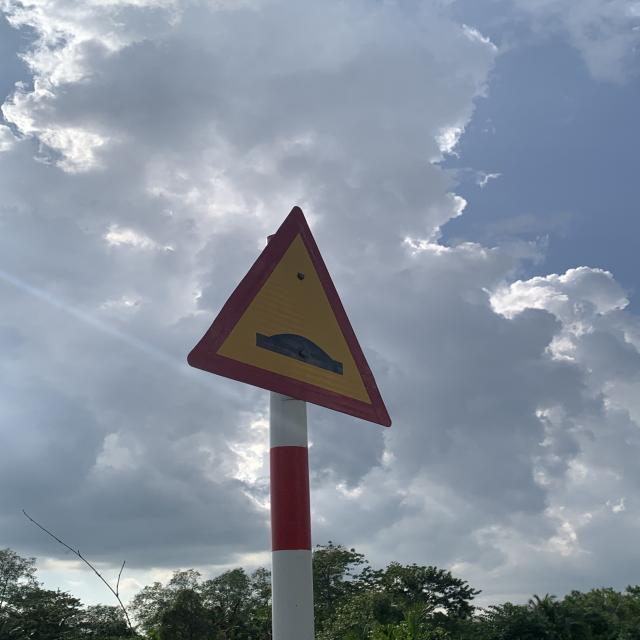Duong_Cong_Ben_Phai: (181, 204, 395, 428)
